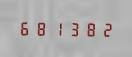eight: (33, 19, 48, 36), (82, 20, 97, 37)
one: (50, 19, 65, 36)
six: (17, 19, 32, 36)
three: (66, 20, 81, 37)
two: (98, 20, 113, 37)
